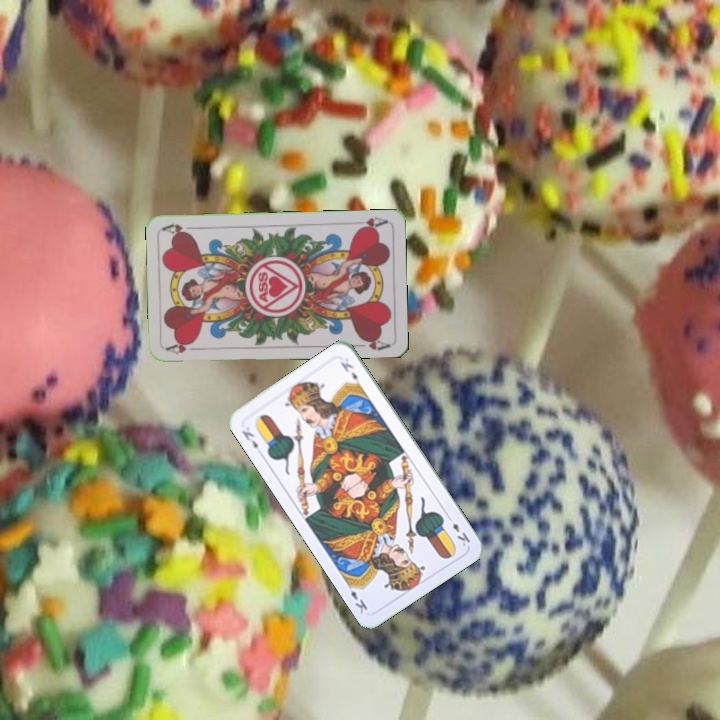EK: (443, 511, 473, 549), (238, 426, 264, 458)
HA: (163, 337, 203, 357), (352, 213, 389, 233)
